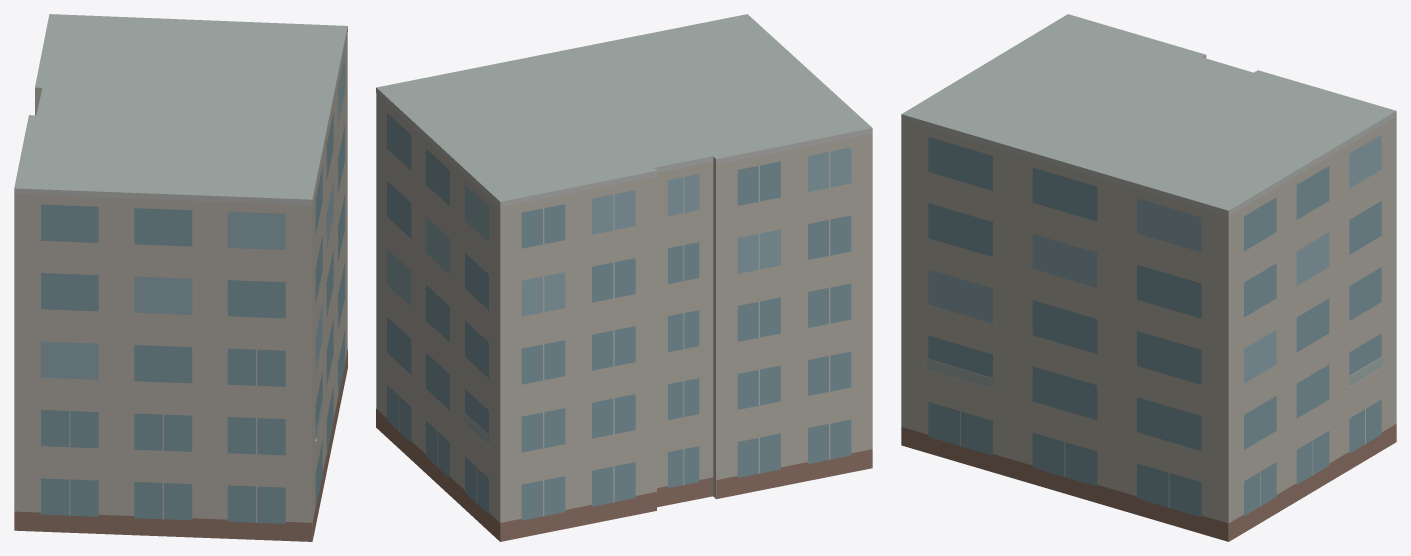
The model's file is survey-upis-32641269.glb.
3 renders of one model, left to right at view 1: azimuth 30°, elevation 25°; view 2: azimuth 150°, elevation 25°; view 3: azimuth 270°, elevation 25°, orthographic. The views are drawn at different scales.
Parts seen in each view (by area): view 1: survey-upis-32641269.tmp; view 2: survey-upis-32641269.tmp; view 3: survey-upis-32641269.tmp.
Boxes of the visible parts, left/top/right/bottom form: survey-upis-32641269.tmp: left=14, top=14, right=347, bottom=541; survey-upis-32641269.tmp: left=376, top=14, right=872, bottom=541; survey-upis-32641269.tmp: left=901, top=14, right=1396, bottom=541.
Size of the model in its own units: 18.87 by 14.8 by 20.07.
